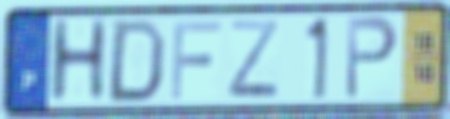1: (303, 15, 331, 102)
D: (104, 17, 169, 106)
F: (168, 18, 224, 102)
H: (46, 16, 112, 107)
P: (343, 13, 401, 103)
Z: (225, 18, 281, 101)
